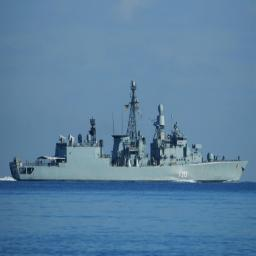Fragata: (12, 77, 250, 186)
